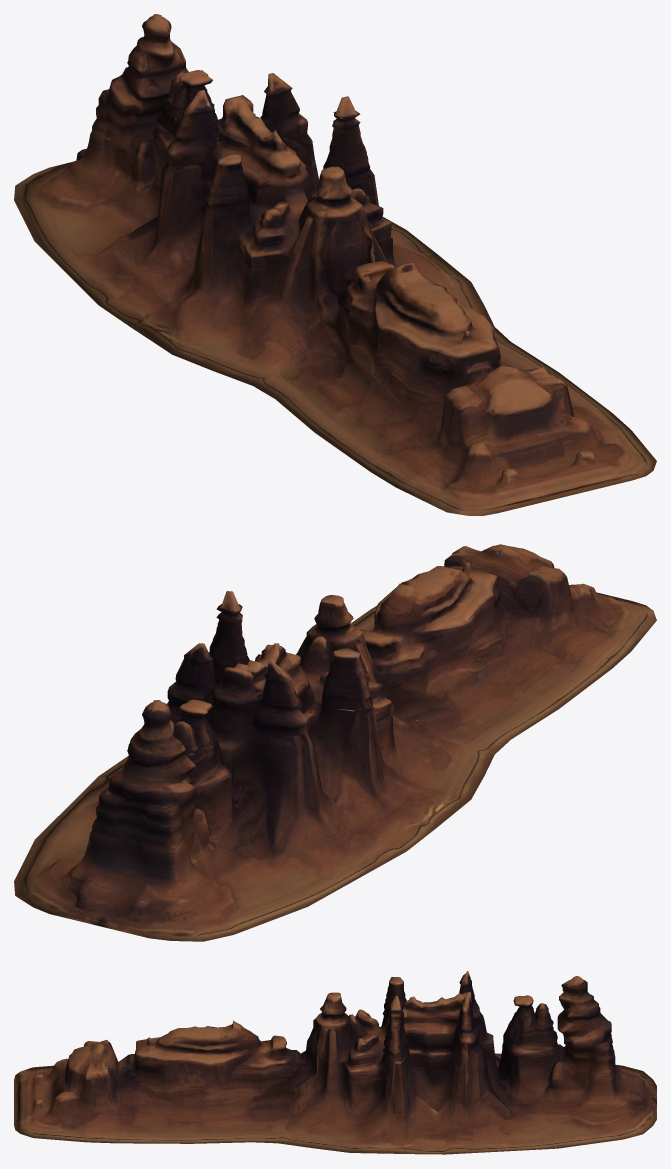
File: tripo_convert_d0be563e-6644-494c-aa38-697c258528d4.fbx
The picture shows the model from 3 angles, top to bottom: view 1: azimuth 30°, elevation 25°; view 2: azimuth 150°, elevation 25°; view 3: azimuth 270°, elevation 25°; orthographic projection. The views are drawn at different scales.
Parts seen in each view (by area): view 1: tripo_node_d0be563e; view 2: tripo_node_d0be563e; view 3: tripo_node_d0be563e.
Part boxes in pixels (box(x1,y1,x2,y2)): tripo_node_d0be563e: box(14, 14, 656, 515); tripo_node_d0be563e: box(14, 544, 656, 941); tripo_node_d0be563e: box(14, 971, 656, 1154).
Size of the model in its own units: 0.3814 by 0.2151 by 0.9995.
